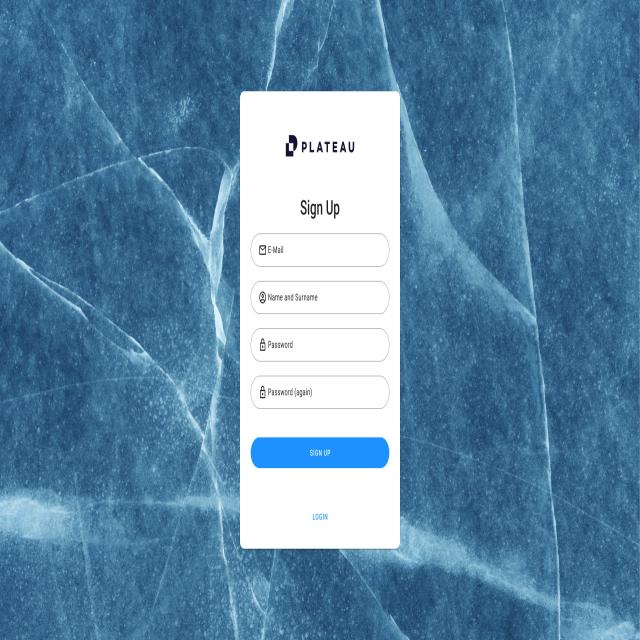QLabel: (299, 196, 340, 220), (309, 448, 332, 458), (312, 512, 329, 521)
VBtn: (250, 438, 390, 469)
VCard: (238, 91, 402, 550)
VContainer: (0, 0, 640, 640)
VImg: (282, 132, 356, 160)
VTextField: (250, 326, 390, 363), (250, 279, 390, 316), (250, 232, 390, 268)
